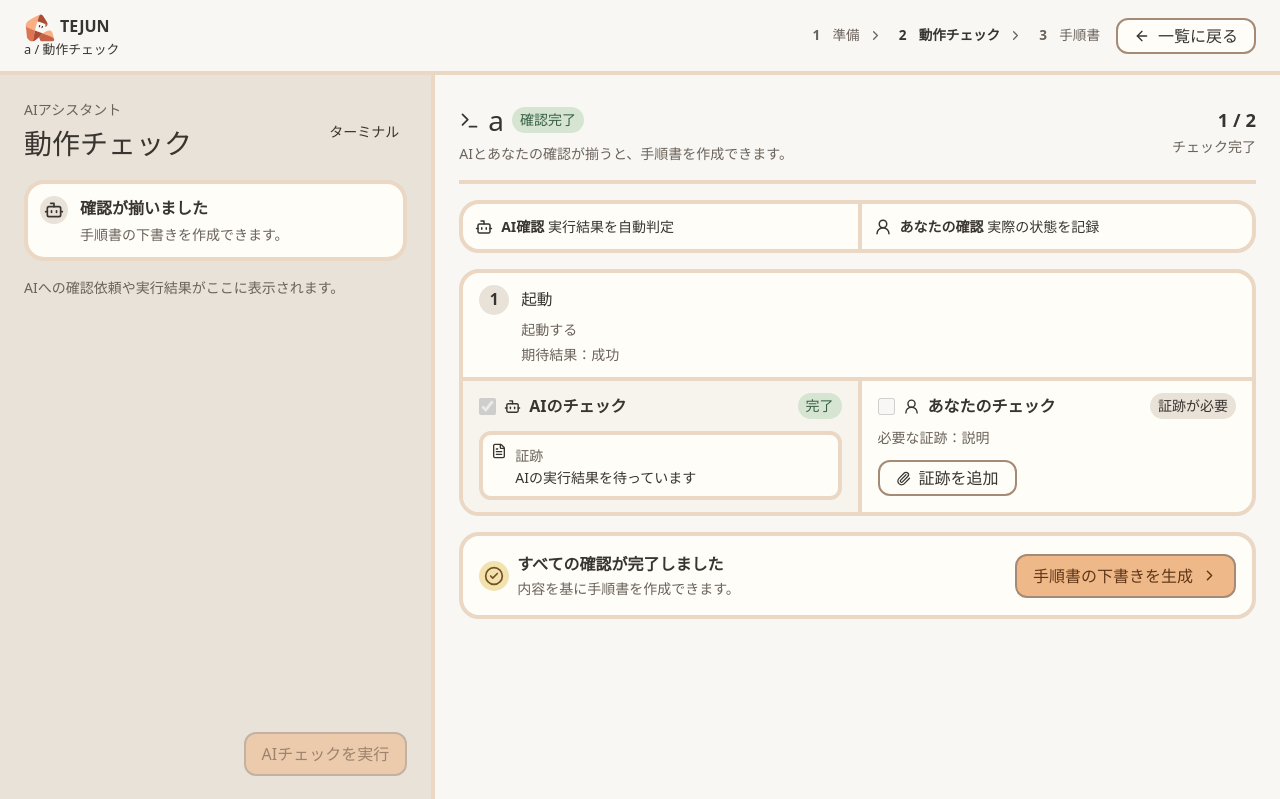
Test: ExecutionRoute › 操作失敗後の再取得でエラーを消さない
The image size is (1280, 799).
Expected: the heading "a" is shown, [488, 99, 504, 141]
Click the button "証跡を追加": (947, 478) [878, 460, 1017, 496]
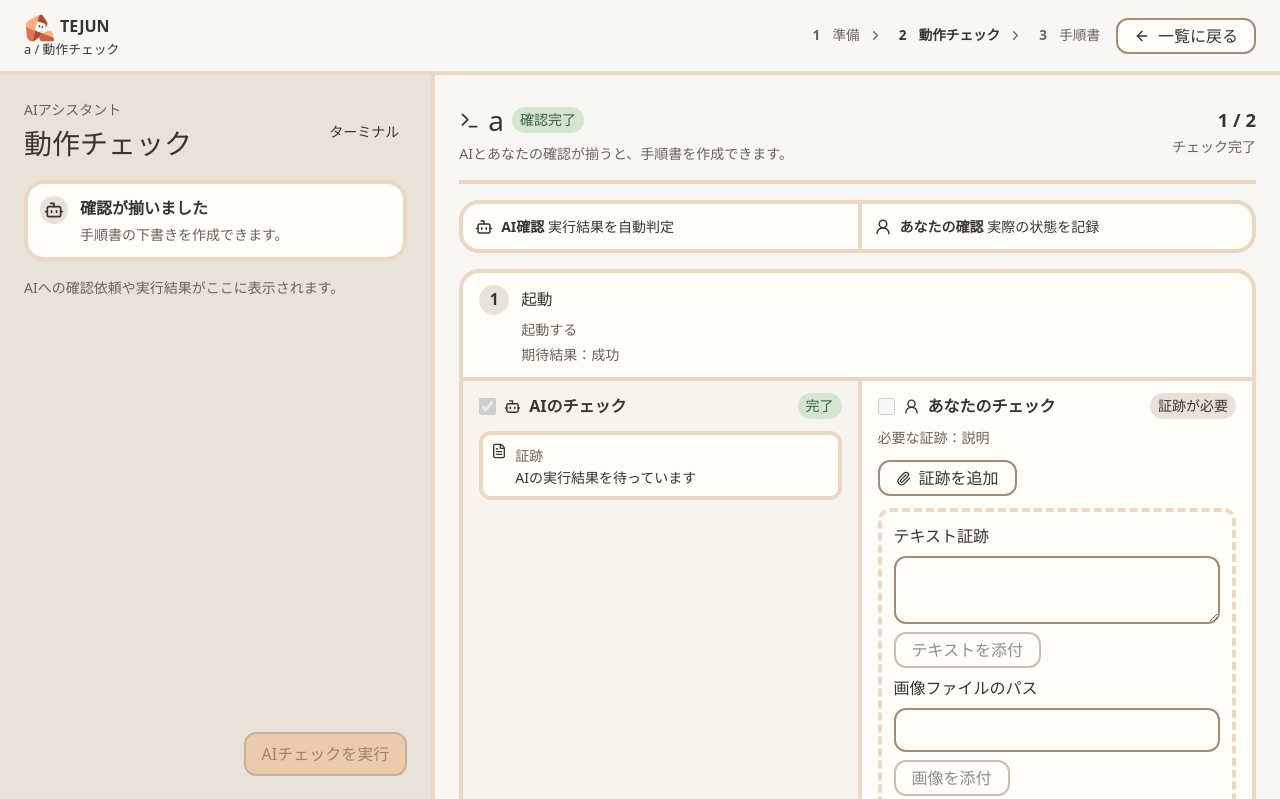
In the text box labelled "テキスト証跡": (1057, 590) [894, 556, 1220, 624], type "証跡"
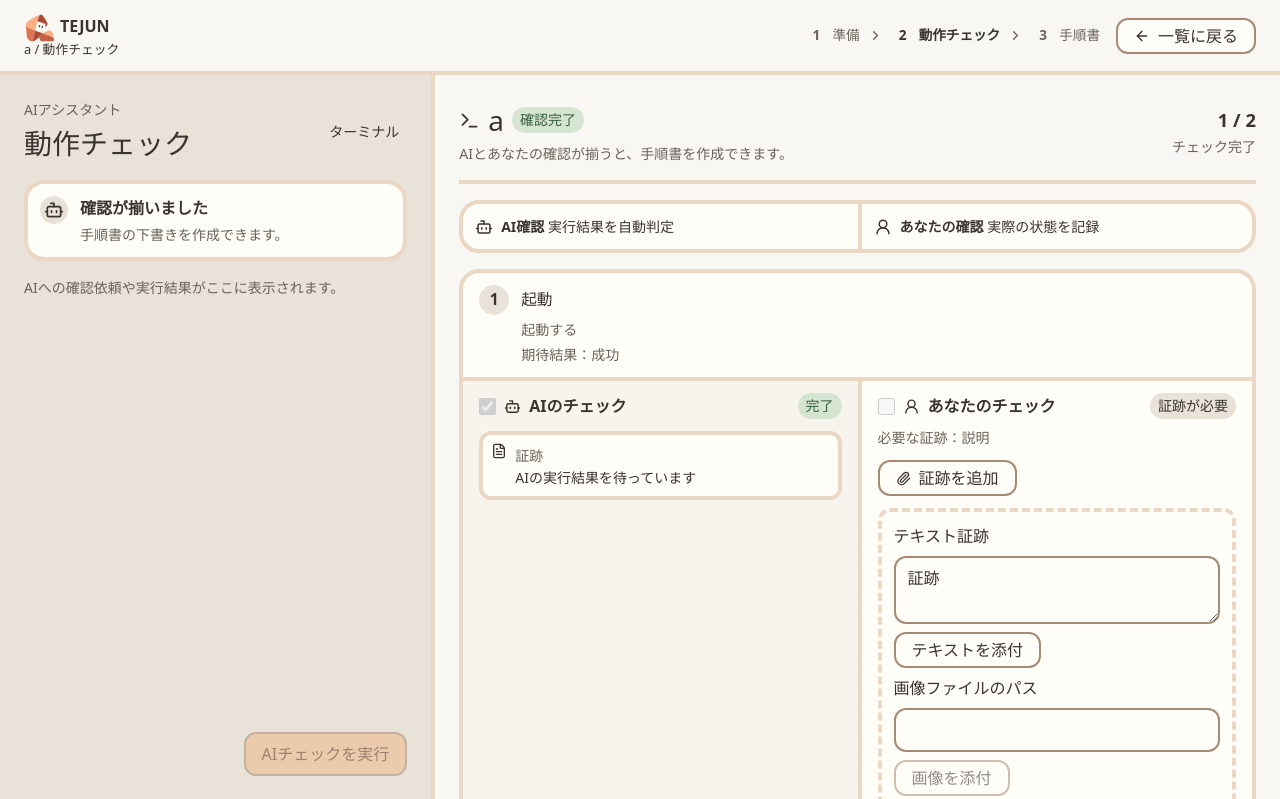
Click the button "テキストを添付": (967, 650) [894, 632, 1041, 668]
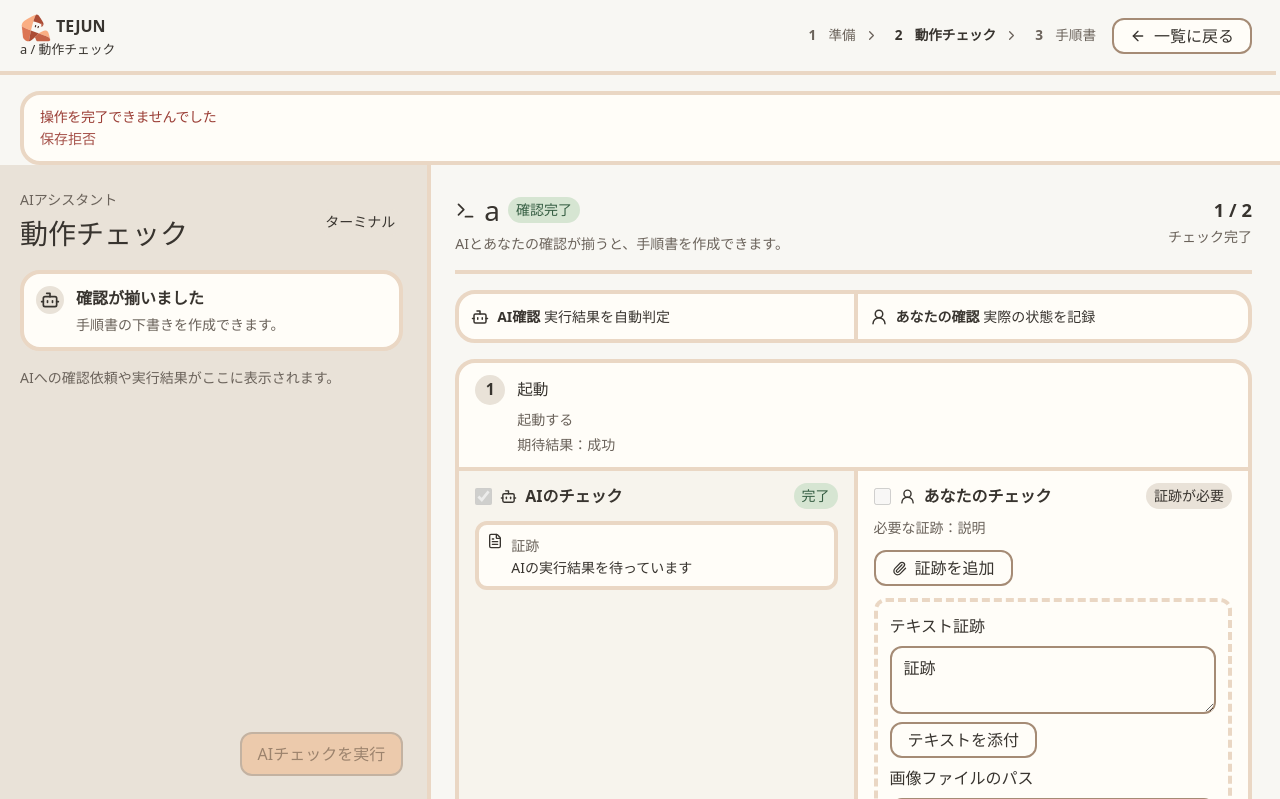
Expected: the text "保存拒否" is shown, [40, 129, 96, 148]
